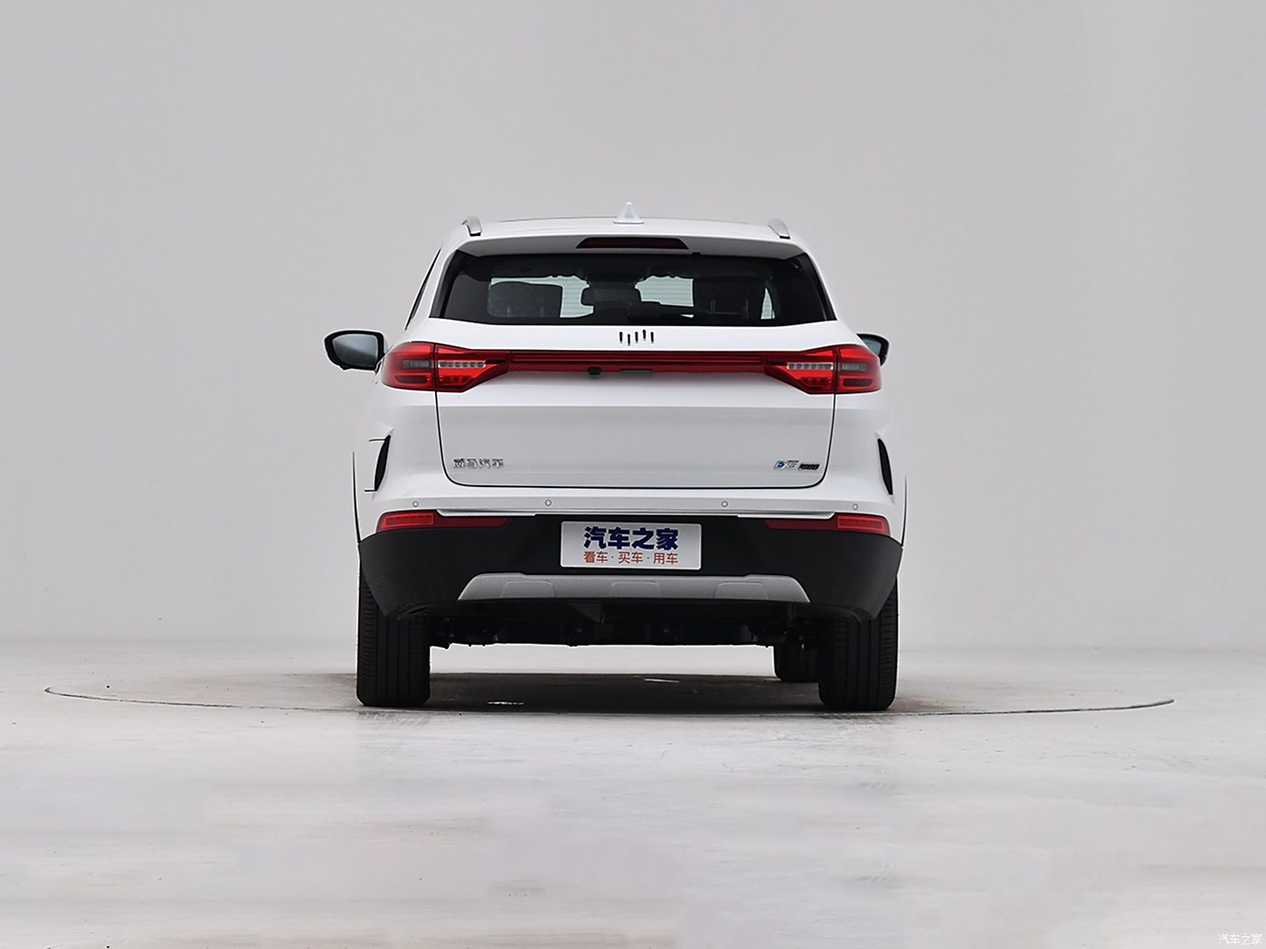WELTMEISTER: (619, 330, 654, 345)
